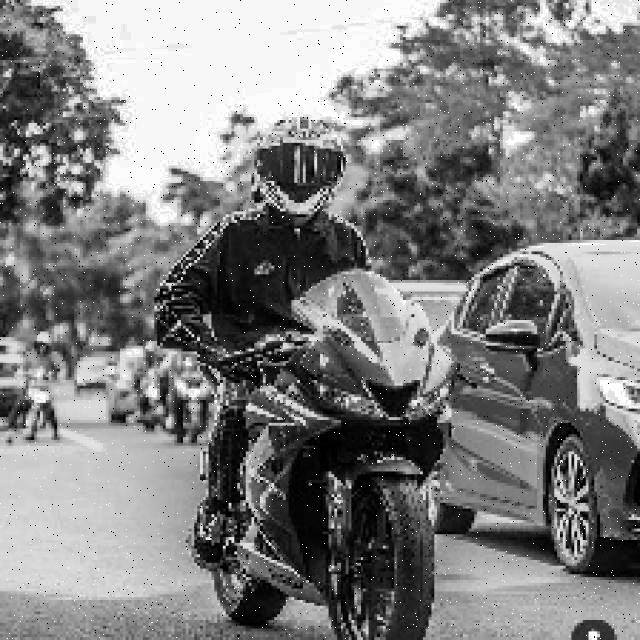Bike: (206, 295, 452, 637)
